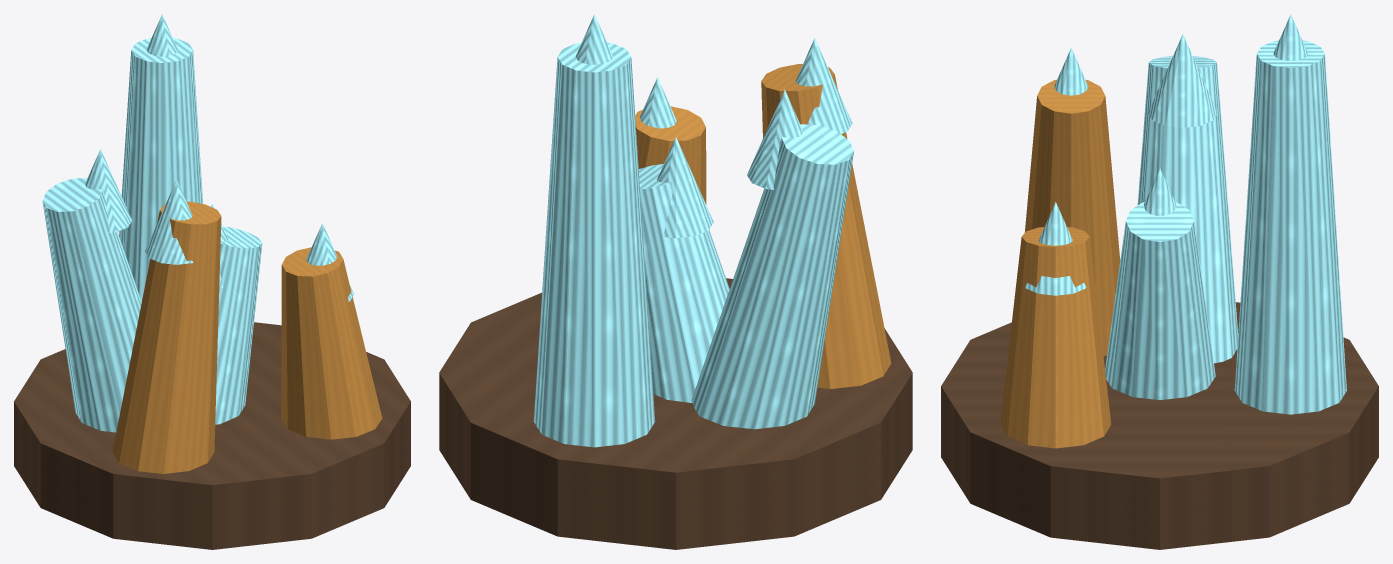
The model's file is atlas100-s013-a04.glb.
3 views of the same model, side by side, from view 1: azimuth 30°, elevation 25°; view 2: azimuth 150°, elevation 25°; view 3: azimuth 270°, elevation 25° (orthographic). The views are drawn at different scales.
Visible parts, largest first — view 1: atlas100-s013-a04:part-000, atlas100-s013-a04:part-003, atlas100-s013-a04:part-009, atlas100-s013-a04:part-007, atlas100-s013-a04:part-005, atlas100-s013-a04:part-001, atlas100-s013-a04:part-004, atlas100-s013-a04:part-010, atlas100-s013-a04:part-008, atlas100-s013-a04:part-006; view 2: atlas100-s013-a04:part-000, atlas100-s013-a04:part-005, atlas100-s013-a04:part-009, atlas100-s013-a04:part-001, atlas100-s013-a04:part-003, atlas100-s013-a04:part-007, atlas100-s013-a04:part-002, atlas100-s013-a04:part-004, atlas100-s013-a04:part-010, atlas100-s013-a04:part-008, atlas100-s013-a04:part-006; view 3: atlas100-s013-a04:part-000, atlas100-s013-a04:part-005, atlas100-s013-a04:part-007, atlas100-s013-a04:part-001, atlas100-s013-a04:part-003, atlas100-s013-a04:part-009, atlas100-s013-a04:part-010, atlas100-s013-a04:part-008, atlas100-s013-a04:part-004, atlas100-s013-a04:part-002, atlas100-s013-a04:part-006.
Boxes of the visible parts, <box> form: atlas100-s013-a04:part-000: <box>14,322,410,549</box>; atlas100-s013-a04:part-003: <box>112,201,221,473</box>; atlas100-s013-a04:part-009: <box>42,178,141,432</box>; atlas100-s013-a04:part-007: <box>281,247,382,439</box>; atlas100-s013-a04:part-005: <box>119,38,203,301</box>; atlas100-s013-a04:part-001: <box>215,226,262,424</box>; atlas100-s013-a04:part-004: <box>145,180,193,264</box>; atlas100-s013-a04:part-010: <box>85,149,132,232</box>; atlas100-s013-a04:part-008: <box>306,223,353,301</box>; atlas100-s013-a04:part-006: <box>146,14,177,56</box>; atlas100-s013-a04:part-000: <box>439,278,912,549</box>; atlas100-s013-a04:part-005: <box>533,42,655,447</box>; atlas100-s013-a04:part-009: <box>691,124,853,429</box>; atlas100-s013-a04:part-001: <box>638,164,729,402</box>; atlas100-s013-a04:part-003: <box>761,64,891,388</box>; atlas100-s013-a04:part-007: <box>635,106,706,204</box>; atlas100-s013-a04:part-002: <box>657,137,713,238</box>; atlas100-s013-a04:part-004: <box>795,38,852,133</box>; atlas100-s013-a04:part-010: <box>747,89,803,189</box>; atlas100-s013-a04:part-008: <box>639,77,676,128</box>; atlas100-s013-a04:part-006: <box>575,14,613,64</box>; atlas100-s013-a04:part-000: <box>941,302,1378,549</box>; atlas100-s013-a04:part-005: <box>1234,40,1346,414</box>; atlas100-s013-a04:part-007: <box>1000,227,1111,448</box>; atlas100-s013-a04:part-001: <box>1105,202,1215,399</box>; atlas100-s013-a04:part-003: <box>1024,79,1120,356</box>; atlas100-s013-a04:part-009: <box>1137,56,1238,363</box>; atlas100-s013-a04:part-010: <box>1148,34,1217,127</box>; atlas100-s013-a04:part-008: <box>1025,202,1086,295</box>; atlas100-s013-a04:part-004: <box>1054,48,1088,95</box>; atlas100-s013-a04:part-002: <box>1143,168,1176,216</box>; atlas100-s013-a04:part-006: <box>1273,14,1308,60</box>.
Size of the model in its own units: 1.07 by 1.21 by 1.07.
3 materials, 3 textured.
